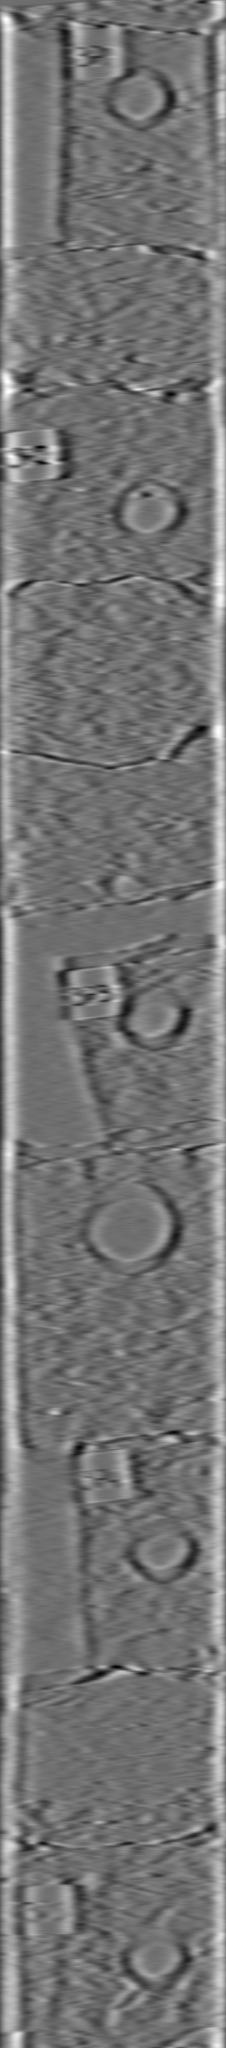hplug: (111, 469, 192, 552), (121, 1510, 205, 1590), (114, 1916, 195, 1997), (101, 59, 180, 135), (121, 982, 189, 1057)
scal: (74, 1176, 182, 1280)
vplug: (18, 1433, 97, 1701), (18, 970, 120, 1165), (3, 8, 77, 261)
